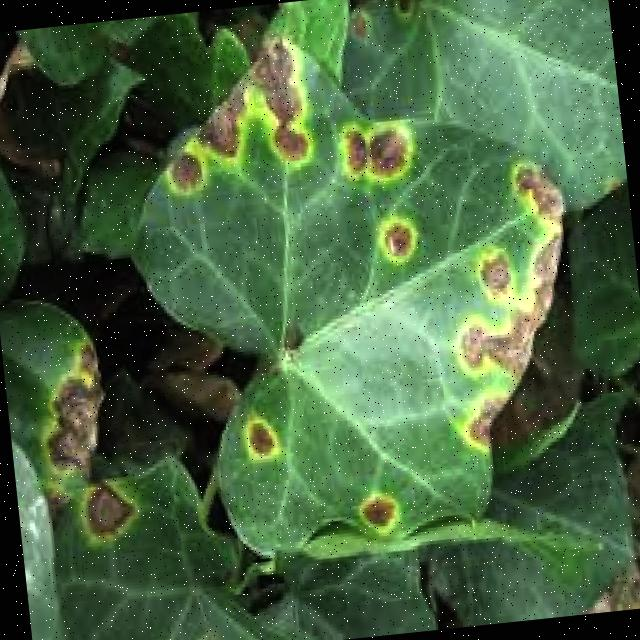leaf spot: (100, 3, 608, 564)
